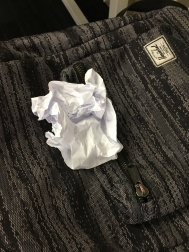paper_white: (22, 64, 141, 183)
